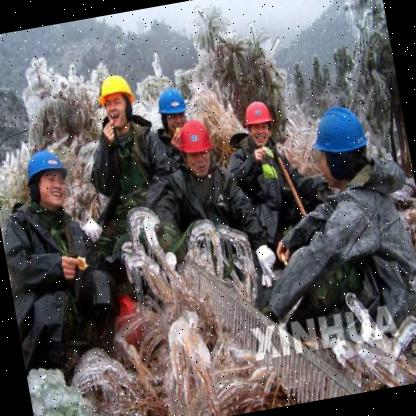capacete: (304, 97, 372, 163), (18, 144, 70, 192), (174, 118, 215, 161), (92, 72, 136, 110), (153, 84, 189, 122), (240, 95, 274, 132)
